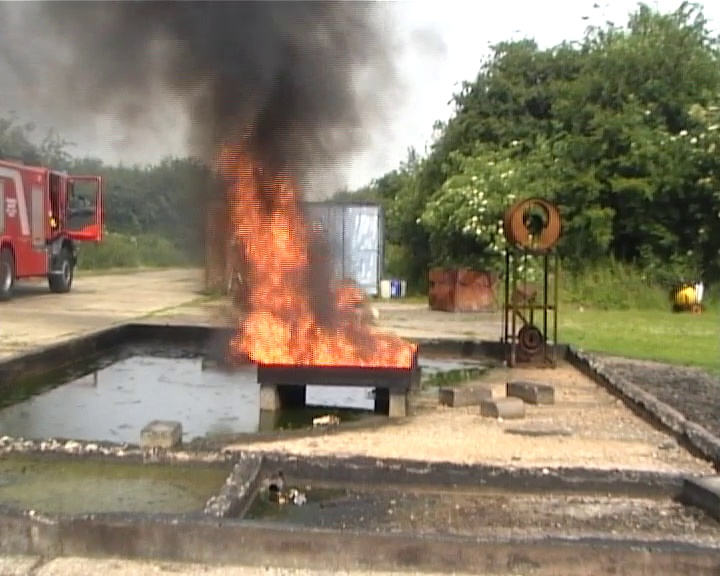fire: (229, 164, 414, 365)
